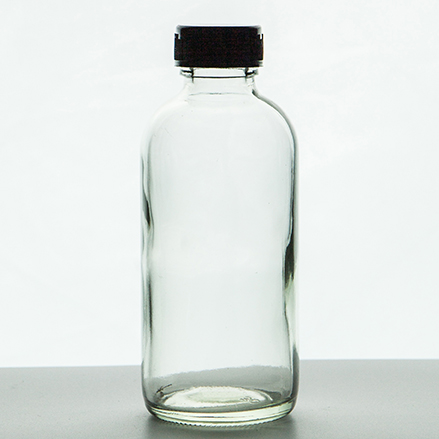glass_bottle: (129, 14, 319, 433)
